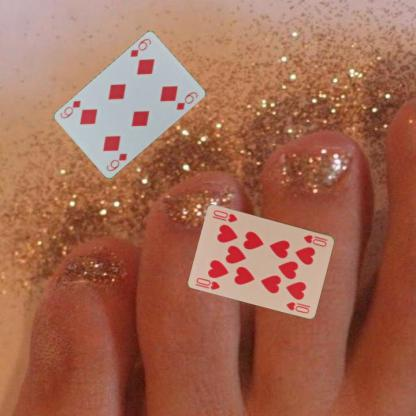10h: (301, 232, 329, 248), (194, 275, 221, 291)
6d: (127, 36, 153, 58), (104, 151, 128, 173)
